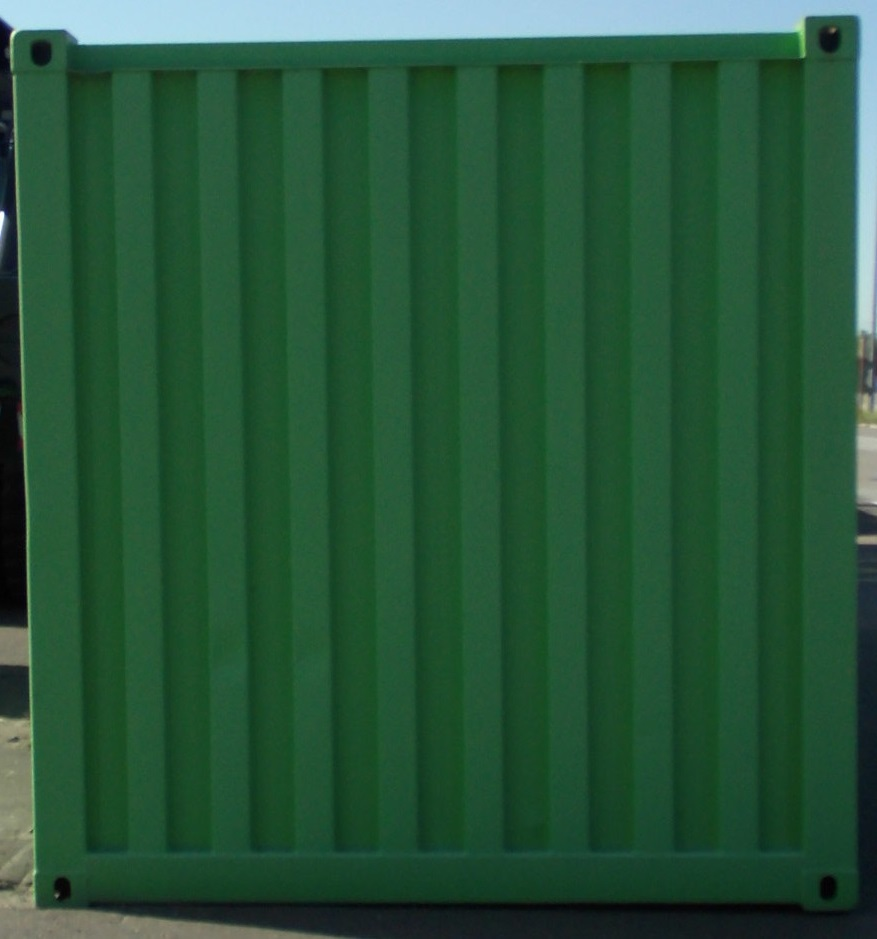container_no_door: (7, 27, 855, 904)
